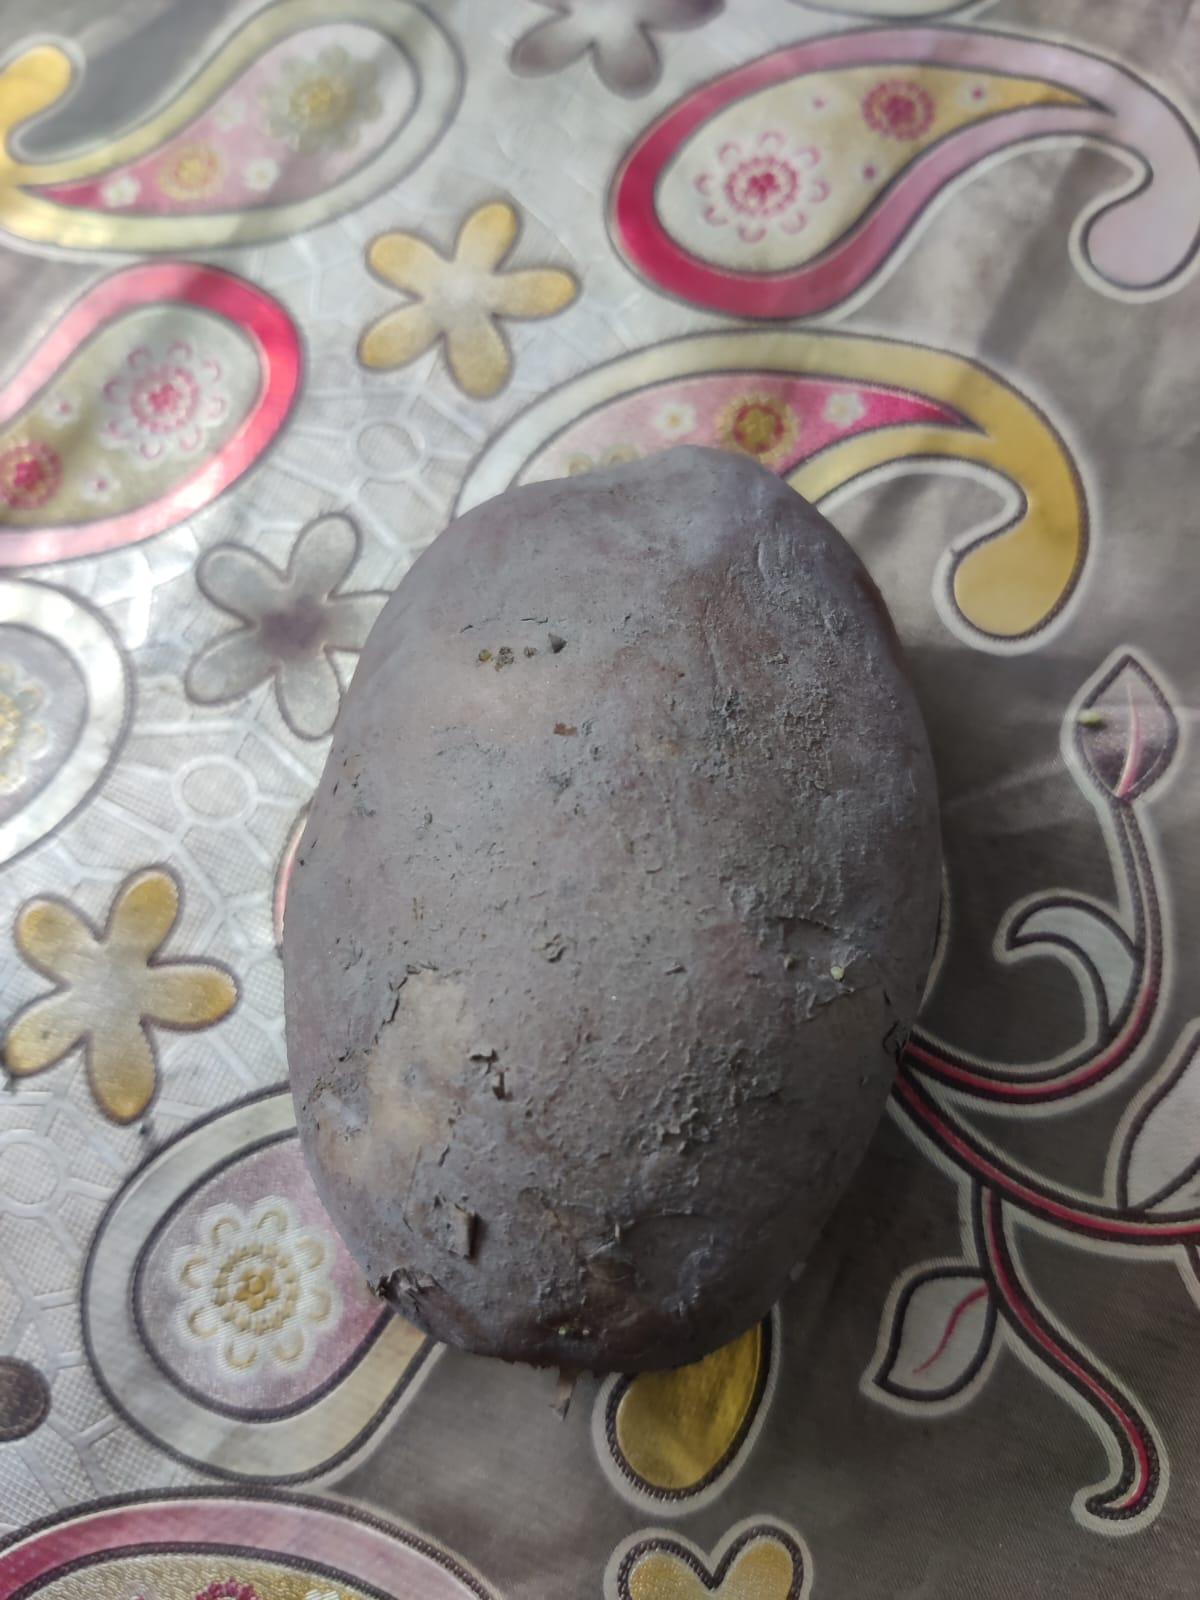non-mango: (280, 447, 950, 1388)
